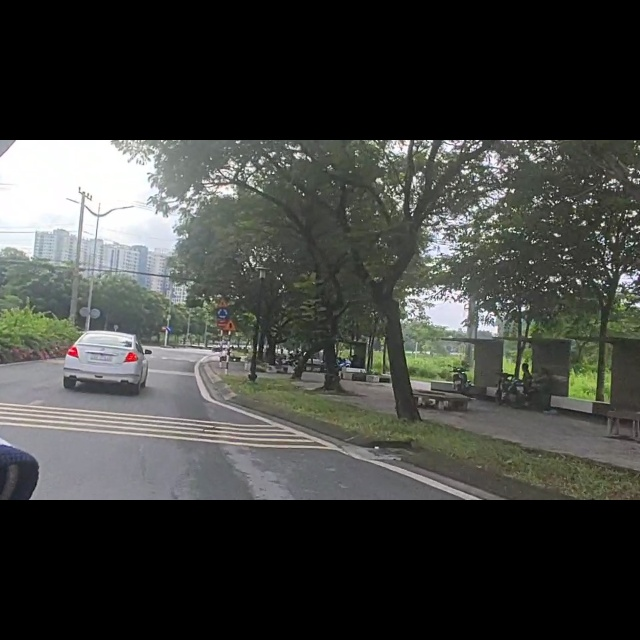bien_hieu_lenh: (223, 320, 238, 341), (217, 296, 229, 320), (217, 280, 230, 296), (166, 328, 173, 341), (160, 326, 166, 340)
